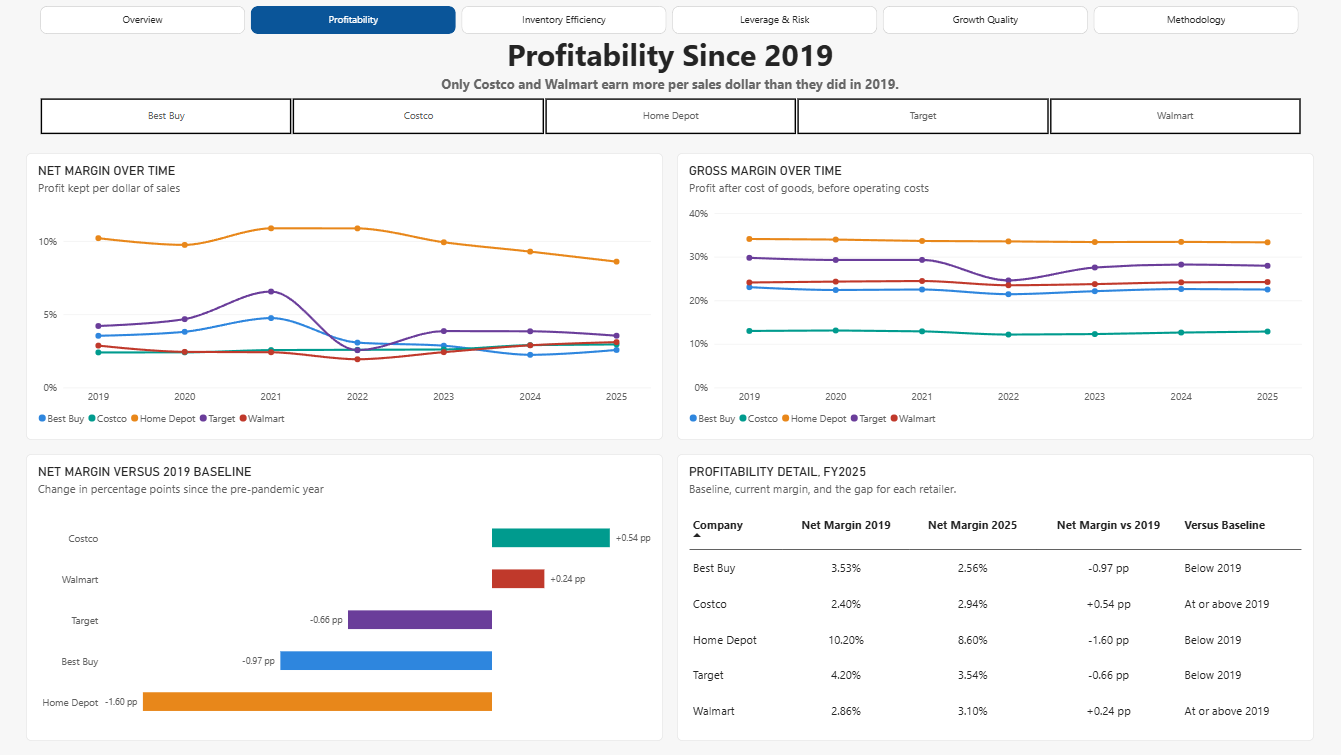

The page's visual inventory and layout, read from the dashboard file:
{"tool":"powerbi","page":{"name":"Profitability","canvas":[1920,1080],"ordinal":1},"visuals":[{"type":"textbox","title":"Profitability Since 2019","box":[40,50,1840,65],"z":0},{"type":"textbox","title":"Only Costco and Walmart earn more per sales dollar than they did in 2019.","box":[40,108,1840,26],"z":1000},{"type":"slicer","fields":{"Values":["Company.Company"]},"box":[40,140,1840,54.5],"z":2000},{"type":"lineChart","title":"NET MARGIN OVER TIME","fields":{"Category":["Fiscal Year.Fiscal Year"],"Y":["_Measures.Net Margin %"],"Series":["Company.Company"]},"box":[40,220,910,410],"z":3000},{"type":"clusteredBarChart","title":"NET MARGIN VERSUS 2019 BASELINE","fields":{"Category":["Company.Company"],"Y":["Avg(Financials.Net Margin vs 2019)"]},"box":[40,650,910,410],"z":4000},{"type":"lineChart","title":"GROSS MARGIN OVER TIME","fields":{"Category":["Fiscal Year.Fiscal Year"],"Y":["_Measures.Gross Margin %"],"Series":["Company.Company"]},"box":[970,220,910,410],"z":5000},{"type":"tableEx","title":"PROFITABILITY DETAIL, FY2025","fields":{"Values":["Company.Company","Financials.Net Margin 2019","_Measures.Net Margin %","Financials.Net Margin vs 2019","Financials.Versus Baseline"]},"box":[970,650,910,410],"z":6000},{"type":"pageNavigator","box":[60,10,1800,40],"z":7000}]}

Visuals, with their boxes in screenshot pixels (x1, y1, x2, y2), scaled from the page's 1920x1080 canvas onto the 1341x755 screenshot:
"Profitability Since 2019" textbox: <bbox>28, 35, 1313, 80</bbox>
"Only Costco and Walmart earn more per sales dollar than they did in 2019." textbox: <bbox>28, 76, 1313, 94</bbox>
slicer - Company.Company: <bbox>28, 98, 1313, 136</bbox>
"NET MARGIN OVER TIME" lineChart: <bbox>28, 154, 664, 440</bbox>
"NET MARGIN VERSUS 2019 BASELINE" clusteredBarChart: <bbox>28, 454, 664, 741</bbox>
"GROSS MARGIN OVER TIME" lineChart: <bbox>677, 154, 1313, 440</bbox>
"PROFITABILITY DETAIL, FY2025" tableEx: <bbox>677, 454, 1313, 741</bbox>
pageNavigator: <bbox>42, 7, 1299, 35</bbox>
